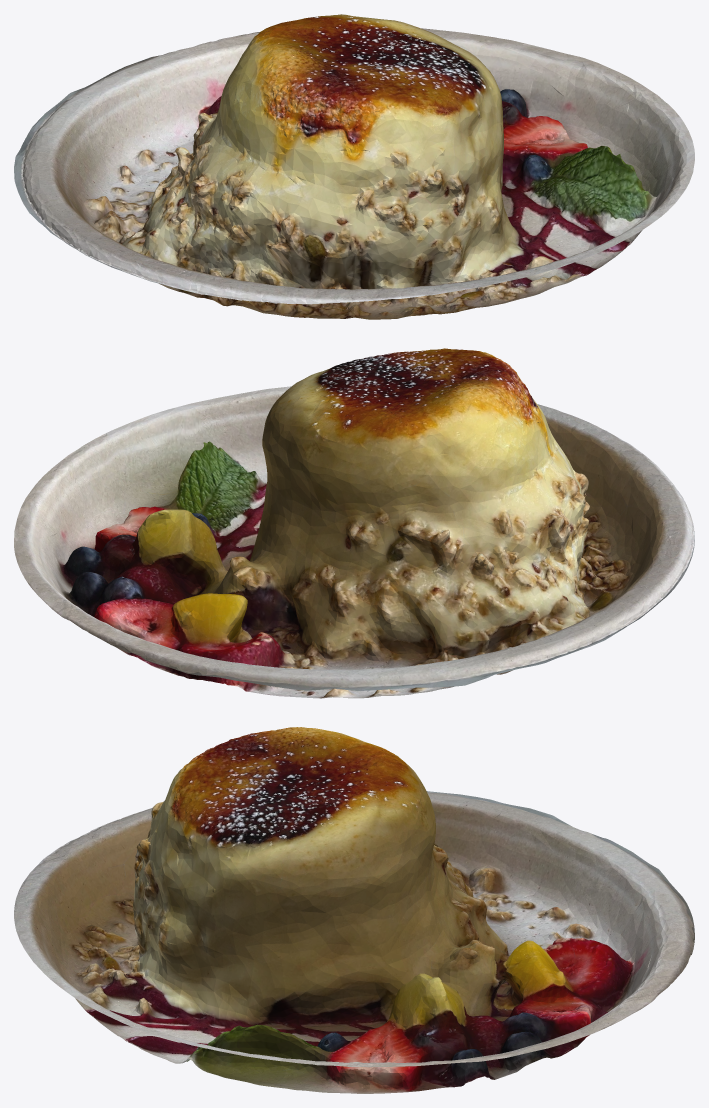
File: creme_brulee.glb
3 renders of one model, top to bottom at view 1: azimuth 30°, elevation 25°; view 2: azimuth 150°, elevation 25°; view 3: azimuth 270°, elevation 25°, orthographic.
Bounding box in the file's own units: 0.2637 × 0.0888 × 0.2638.
Materials: 1 (1 with a texture image).
